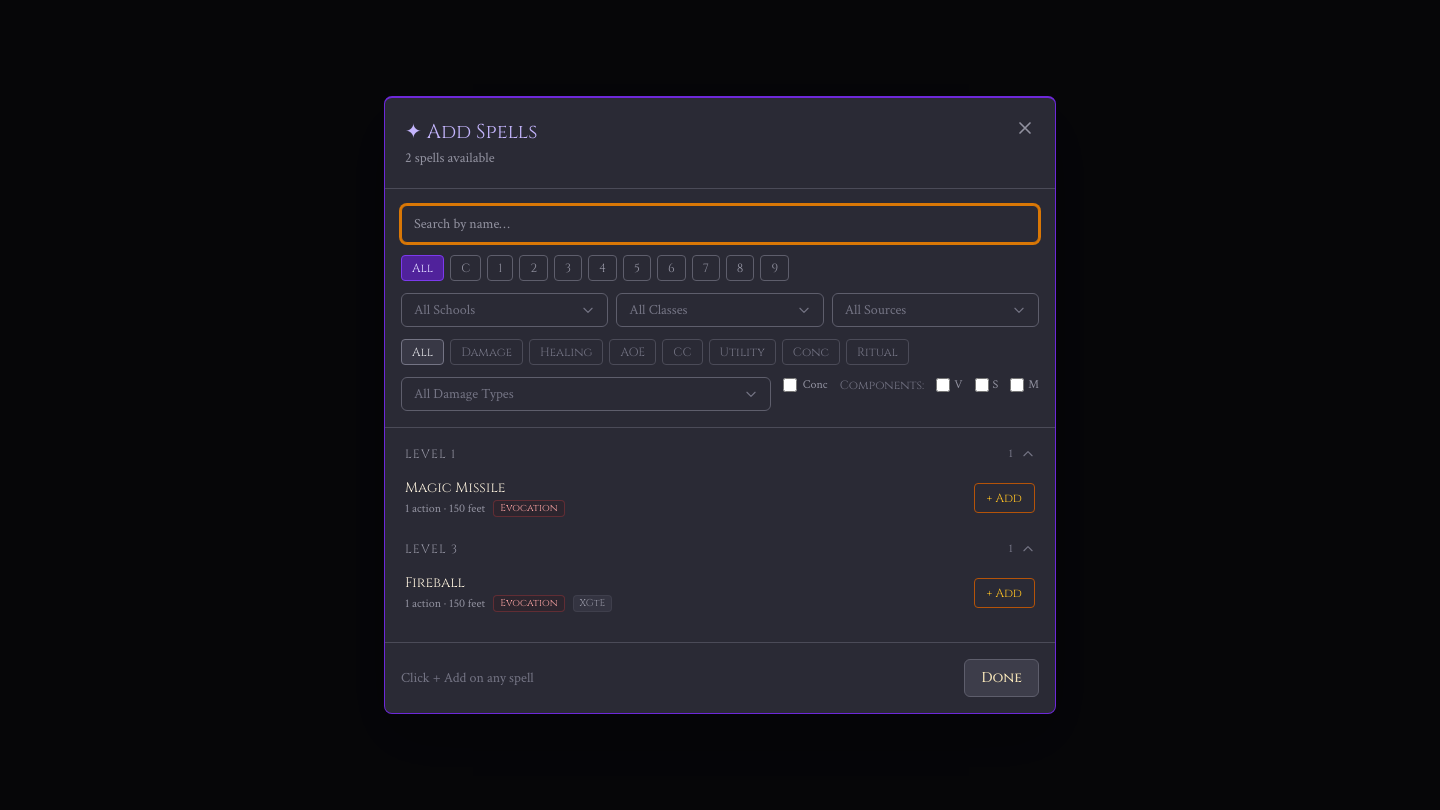
Test: AddSpellPicker › search filter › filters visible spells as the user types in the search box
In the field with placeholder "Search by name…": (720, 224) [401,205,1039,243], type "Fireball"
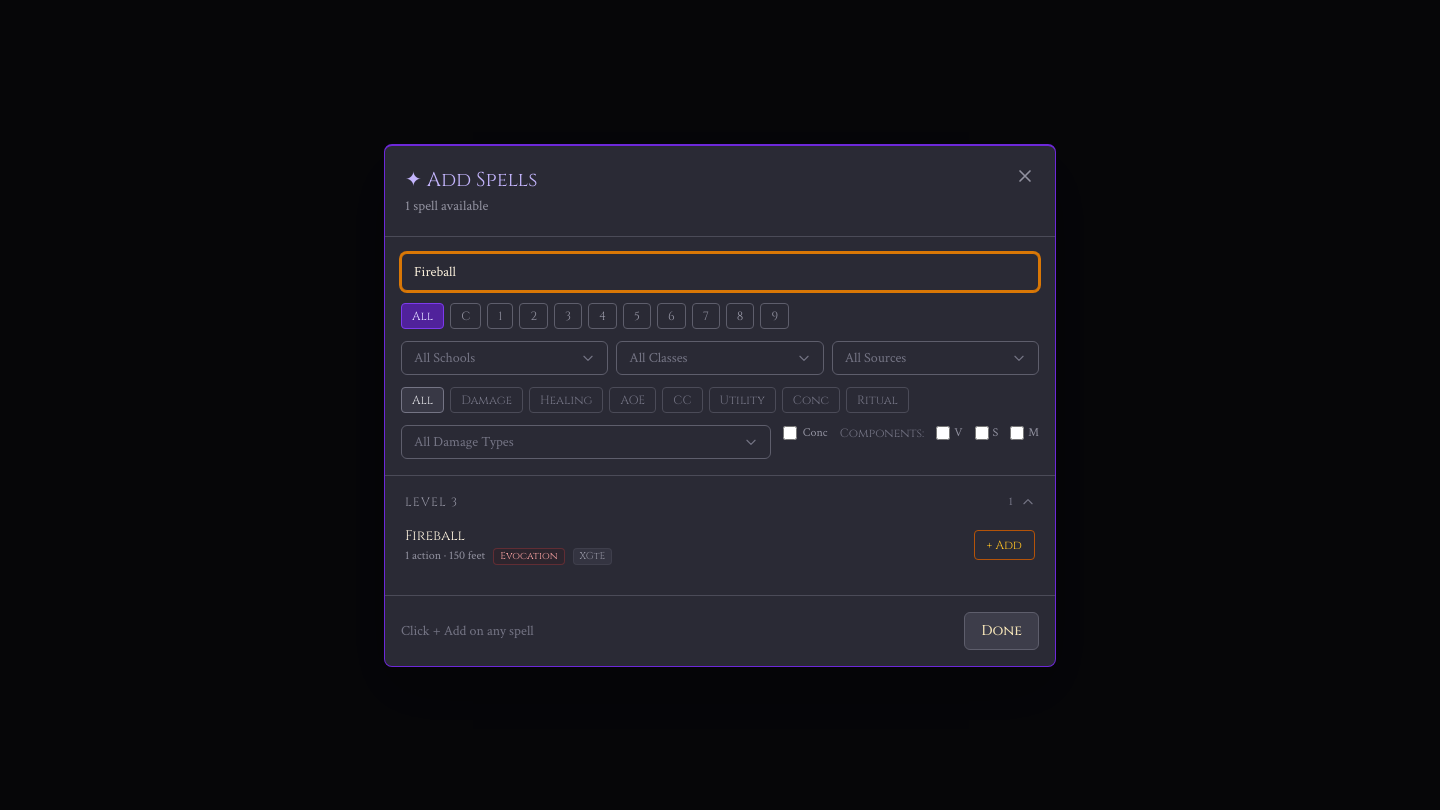
Expected: the text "Fireball" is shown, [405,526,465,546]
Expected: the text "Magic Missile" is gone
